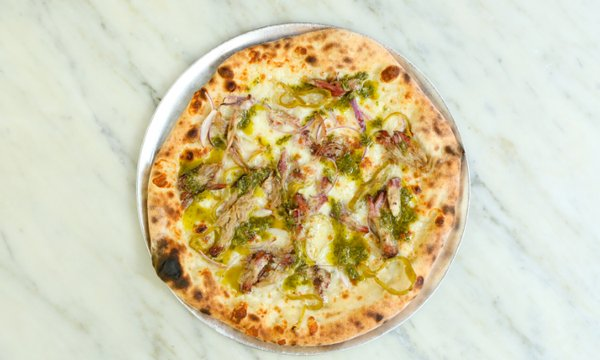curry: (3, 1, 579, 360)
sandwich: (145, 28, 466, 347)
